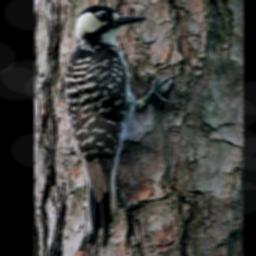Woodpecker: (58, 3, 180, 246)
